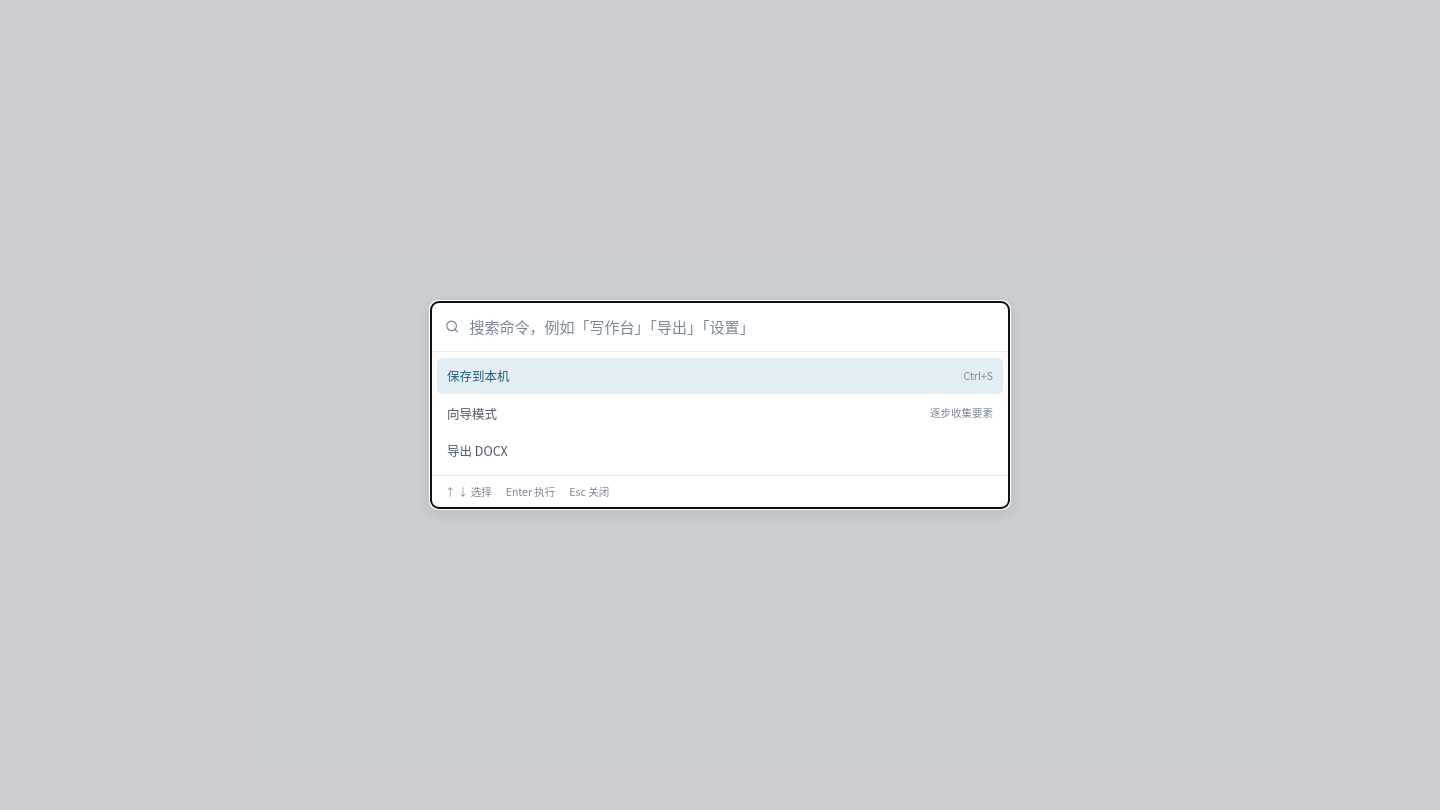
CommandPalette › shows an empty state for an unmatched query
In the field labelled "搜索命令": (731, 327) [467,314,995,340], type "不存在"
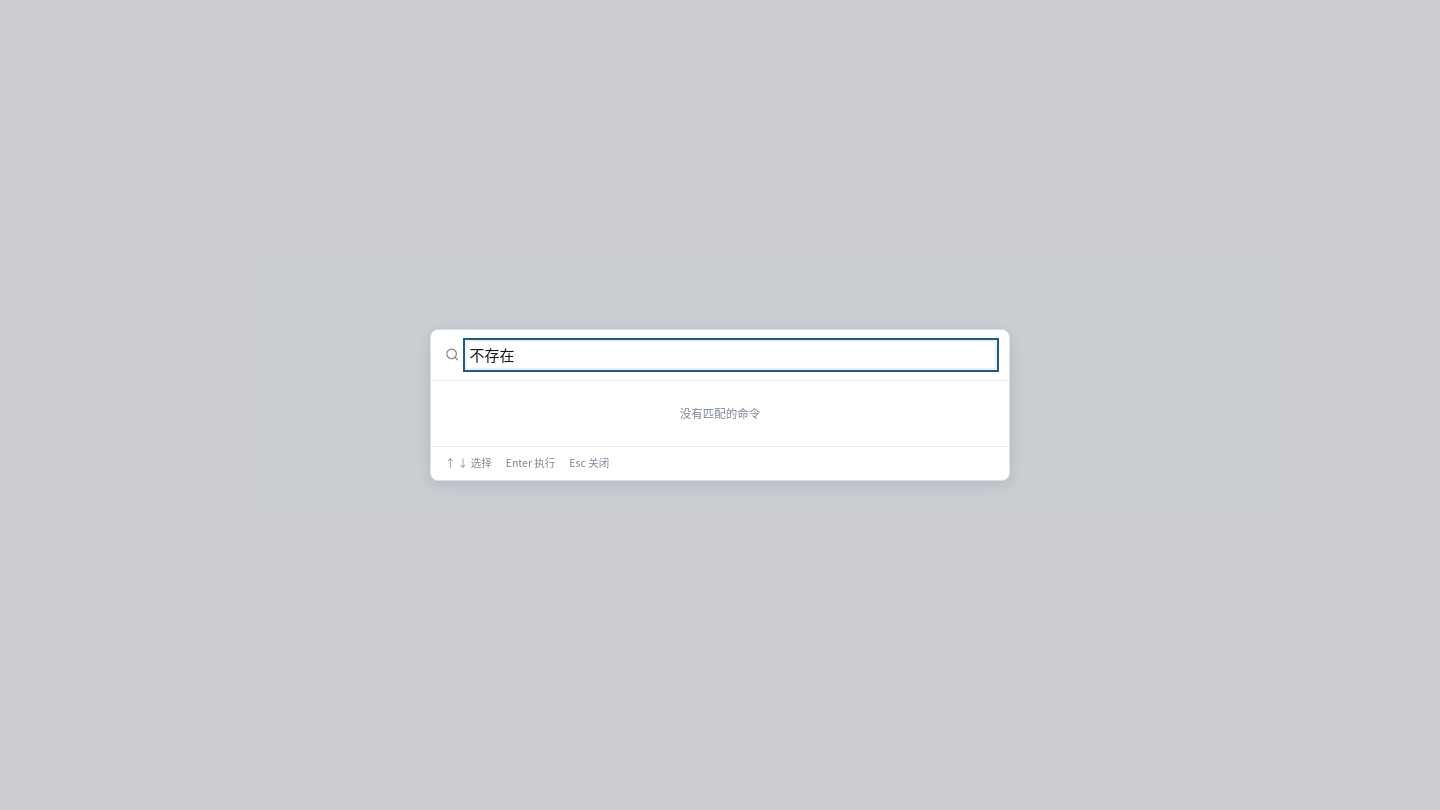
Now the text "没有匹配的命令" is shown, box [680,405,760,421]
